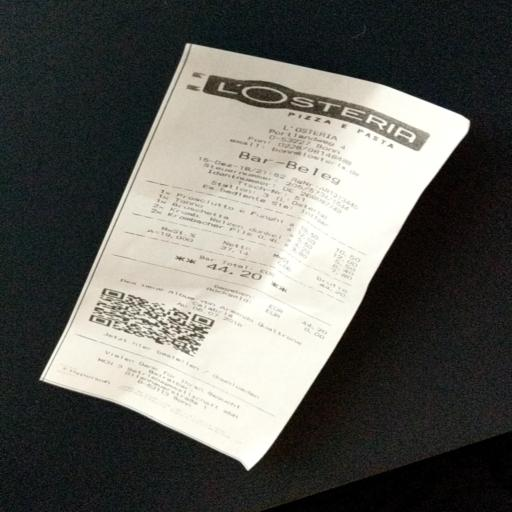paper: (29, 15, 478, 509)
